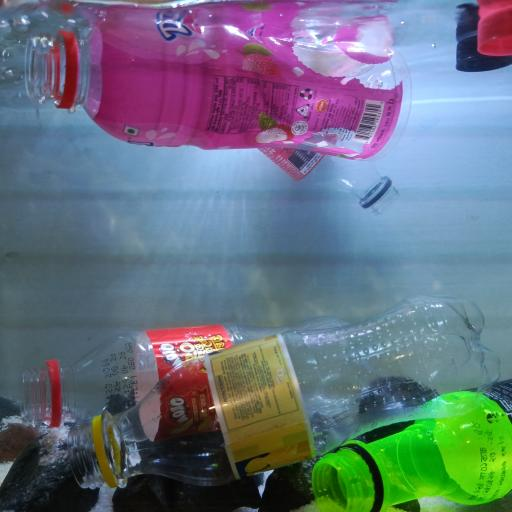bottle_cap: (455, 34, 512, 73), (476, 5, 512, 58)
plastic_bottle: (66, 292, 501, 490), (22, 15, 414, 161), (17, 313, 352, 450), (310, 375, 512, 512), (256, 146, 402, 219)
